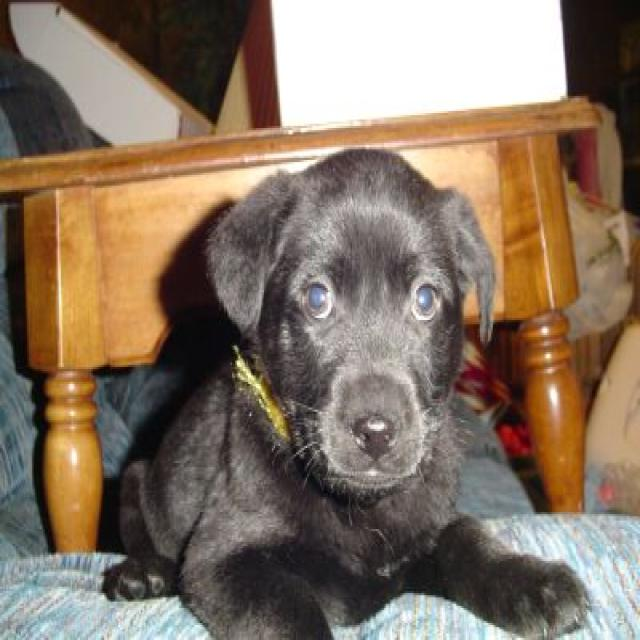Dogs: (100, 145, 590, 638)
